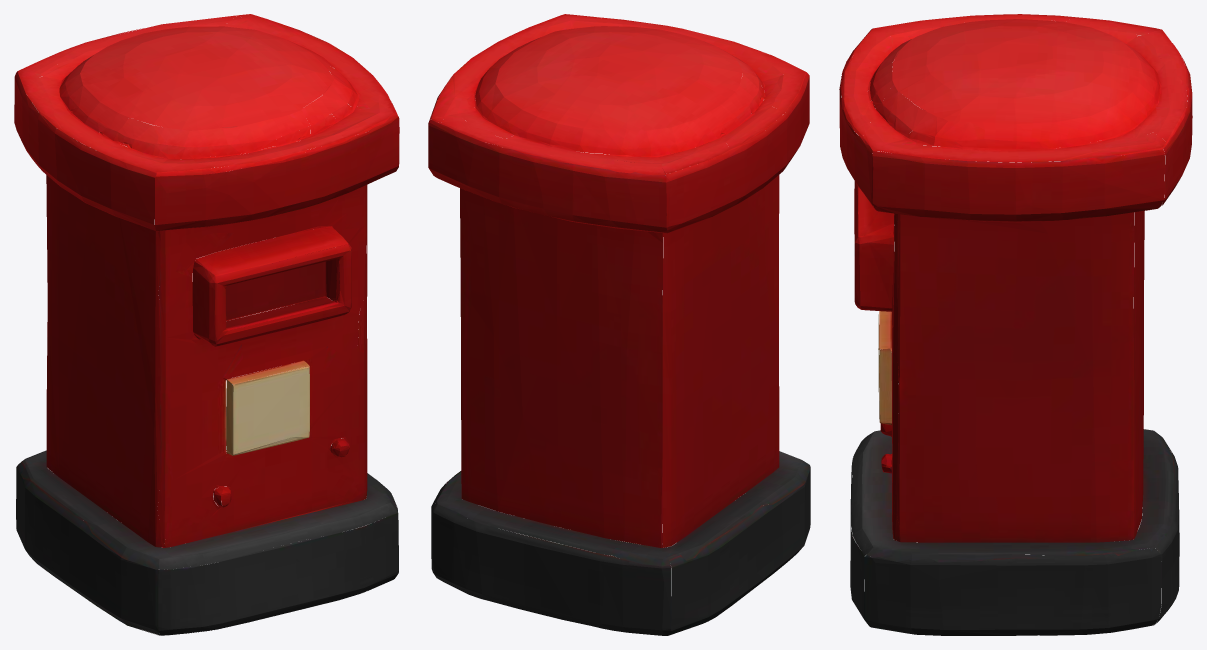
Rendered from red_slotted_box.glb.
3 renders of one model, left to right at view 1: azimuth 30°, elevation 25°; view 2: azimuth 150°, elevation 25°; view 3: azimuth 270°, elevation 25°, orthographic. The views are drawn at different scales.
Visible parts, largest first — view 1: geometry_0; view 2: geometry_0; view 3: geometry_0.
Boxes of the visible parts, <box> form: geometry_0: <box>14,14,399,635</box>; geometry_0: <box>428,14,810,635</box>; geometry_0: <box>839,14,1192,635</box>.
Size of the model in its own units: 0.6271 by 0.9998 by 0.6203.
Materials: 1 (1 with a texture image).
